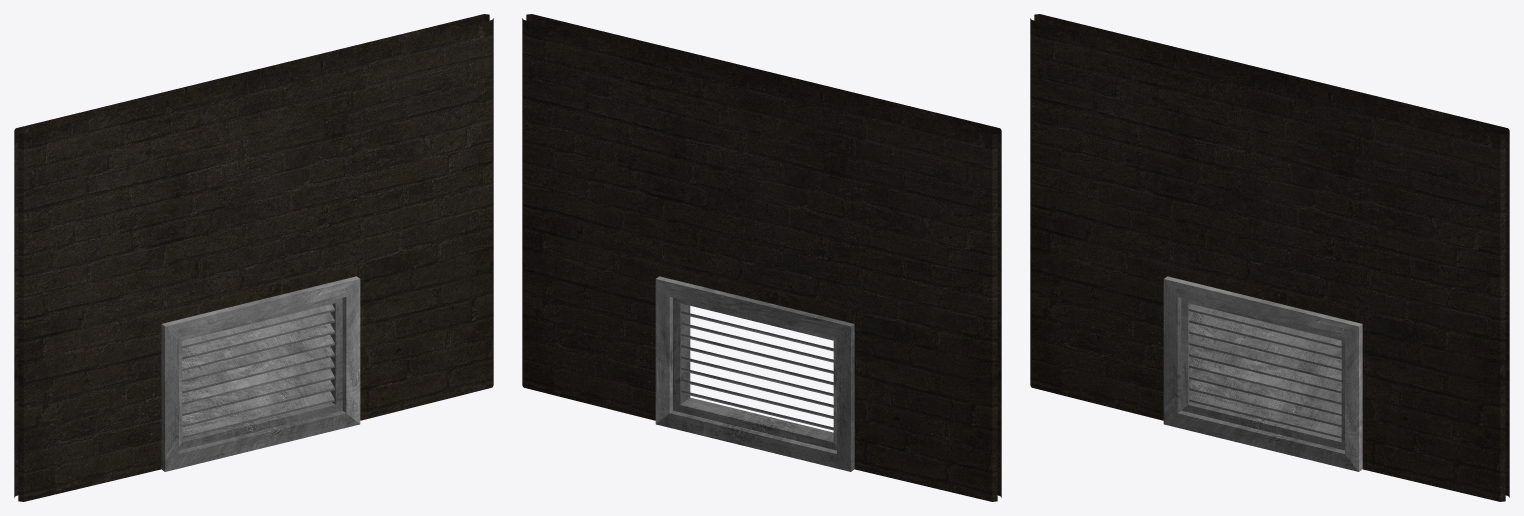
File: norvalvent_big.glb
3 renders of one model, left to right at view 1: azimuth 30°, elevation 25°; view 2: azimuth 150°, elevation 25°; view 3: azimuth 330°, elevation 25°, orthographic.
Visible parts, largest first — view 1: wall_1_plain, wall_1_plain.001; view 2: wall_1_plain, wall_1_plain.001; view 3: wall_1_plain, wall_1_plain.001.
Part boxes in pixels (<box>): wall_1_plain: <box>14,14,493,501</box>; wall_1_plain.001: <box>179,298,342,450</box>; wall_1_plain: <box>522,14,1001,501</box>; wall_1_plain.001: <box>673,297,836,450</box>; wall_1_plain: <box>1030,14,1509,501</box>; wall_1_plain.001: <box>1181,298,1344,450</box>.
Bounding box in the file's own units: 4.06 × 3 × 0.2568.
2 materials, 2 textured.
